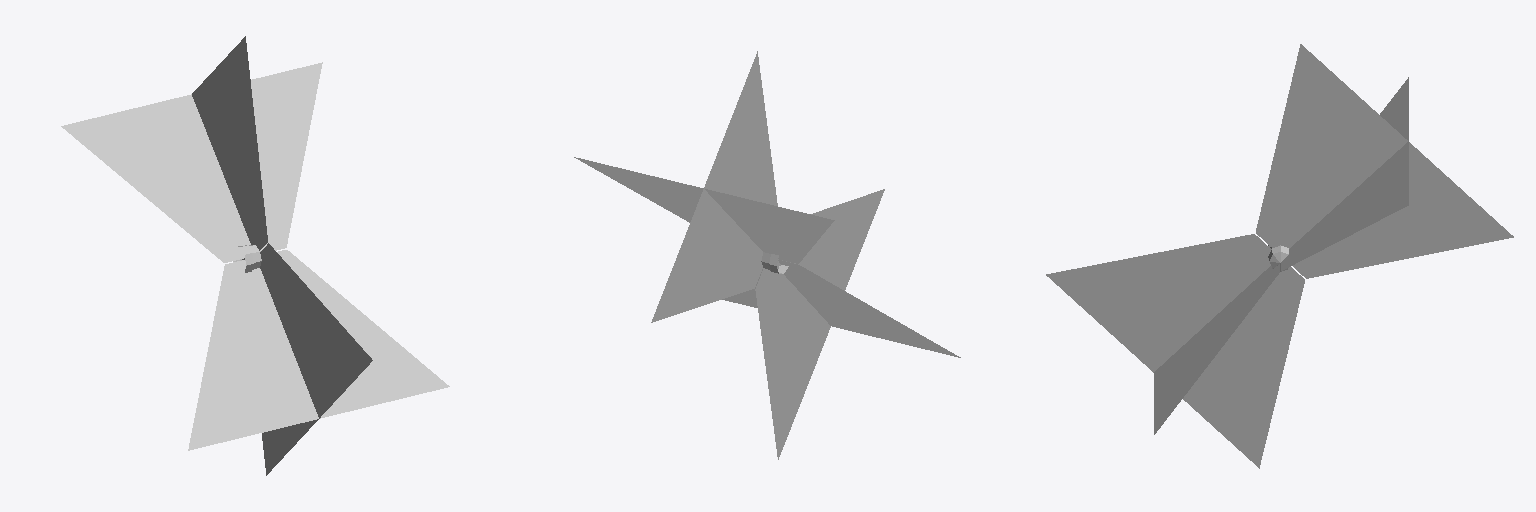
The model's file is stg400_MotRotlightA_w5_23.obj.
3 views of the same model, side by side, from view 1: azimuth 30°, elevation 25°; view 2: azimuth 150°, elevation 25°; view 3: azimuth 270°, elevation 25° (orthographic).
Visible parts, largest first — view 1: polygon4; view 2: polygon4; view 3: polygon4.
Part boxes in pixels (left/top/right/bottom): polygon4: left=61, top=36, right=449, bottom=475; polygon4: left=574, top=51, right=960, bottom=459; polygon4: left=1046, top=44, right=1513, bottom=468.
Bounding box in the file's own units: 91.26 × 141 × 141.